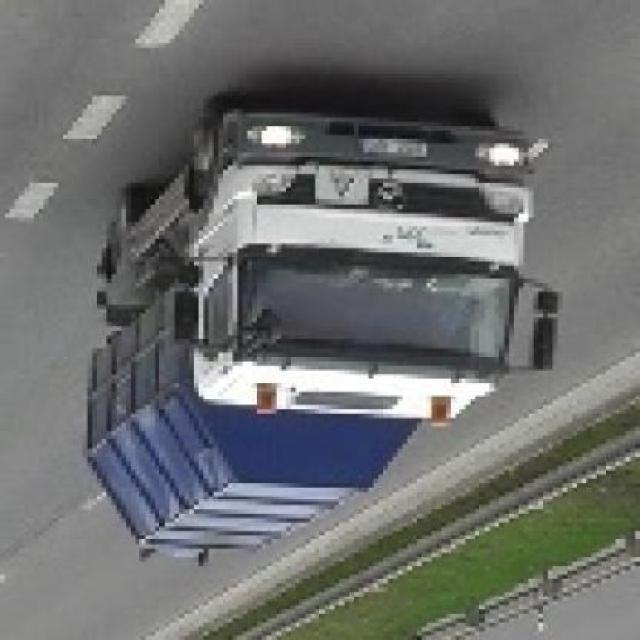truck: (88, 106, 563, 563)
